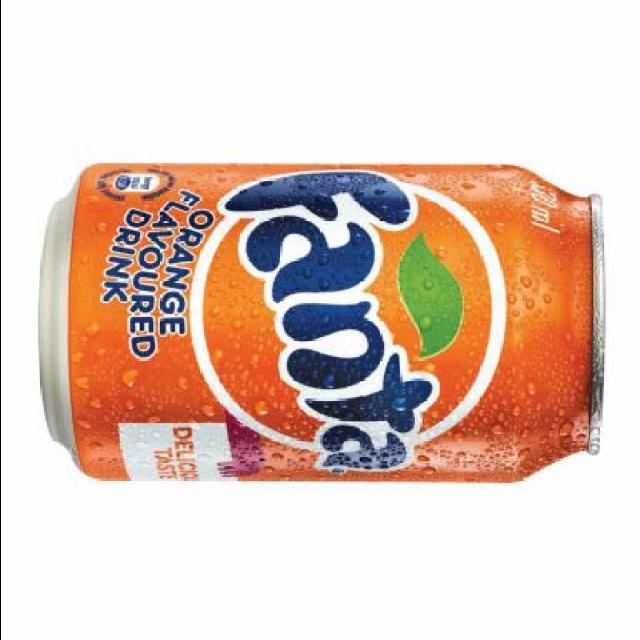Fanta: (30, 153, 608, 490)
